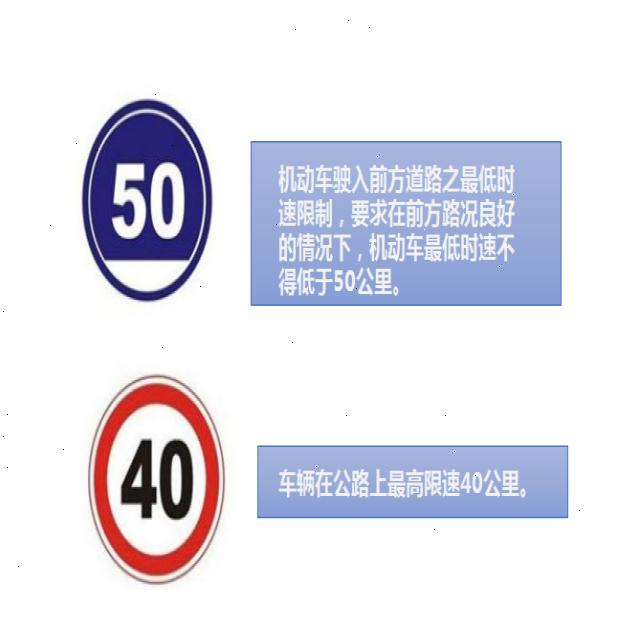speed limit 40: (88, 379, 225, 585)
speed limit 50: (81, 95, 213, 301)
